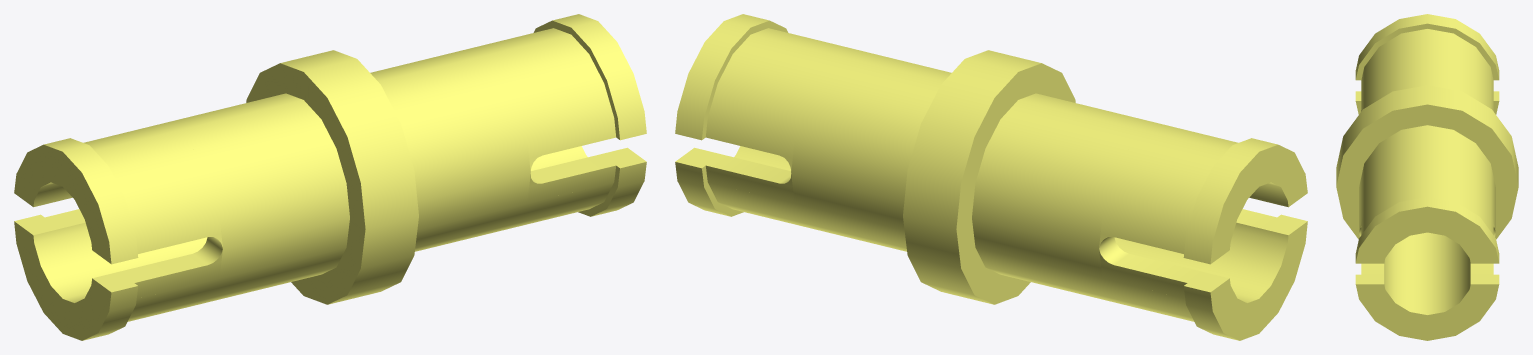
3 views of the same model, side by side, from view 1: azimuth 30°, elevation 25°; view 2: azimuth 150°, elevation 25°; view 3: azimuth 270°, elevation 25° (orthographic). The views are drawn at different scales.
Parts seen in each view (by area): view 1: 3673.dat; view 2: 3673.dat; view 3: 3673.dat.
Part boxes in pixels (x1,y1,x2,y2): 3673.dat: (14,14,646,340); 3673.dat: (675,14,1307,340); 3673.dat: (1336,14,1518,340).
Size of the model in its own units: 0.016 by 0.0064 by 0.0064.
